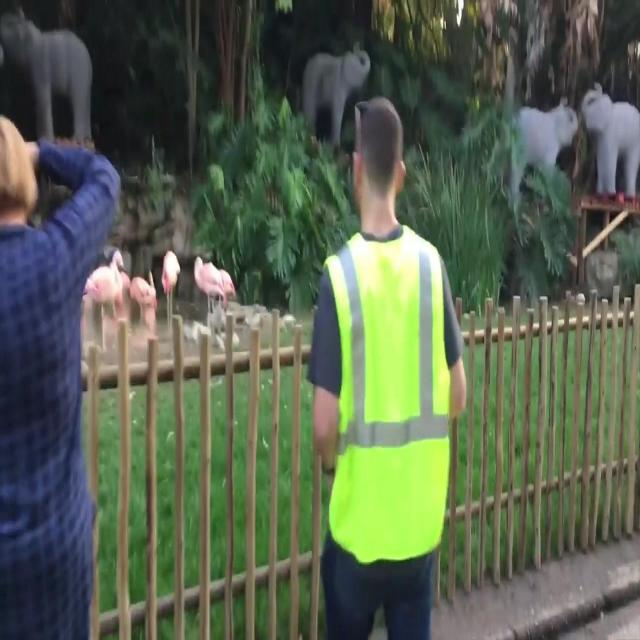vest: (324, 228, 450, 566)
